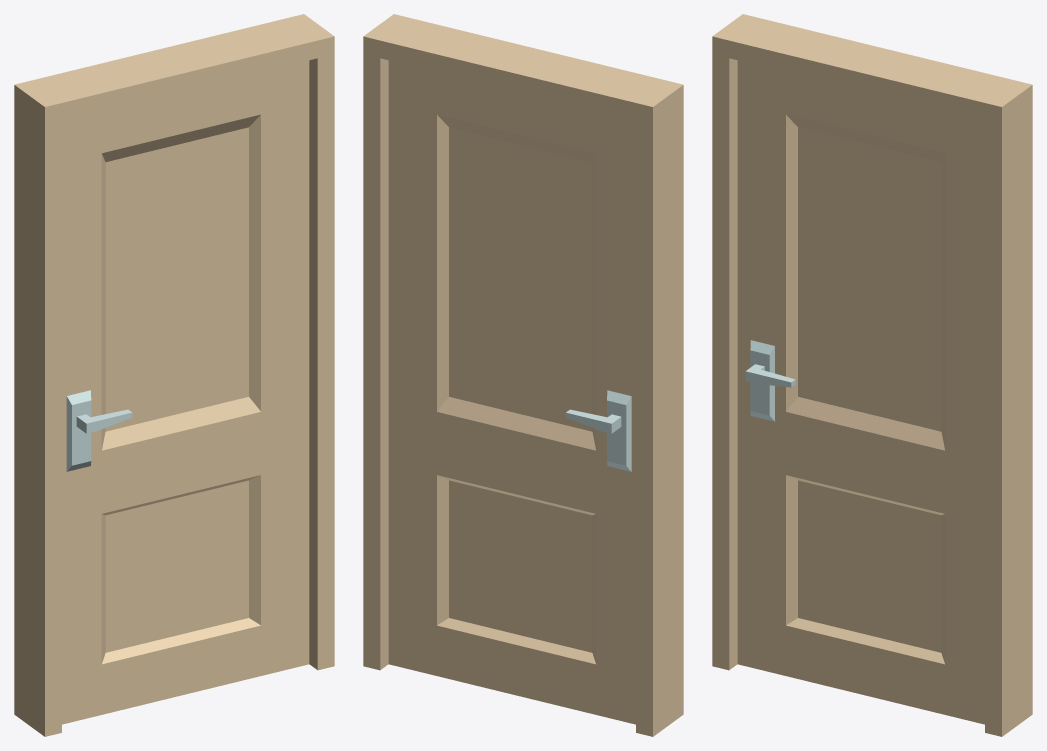
The model's file is doorway.glb.
3 views of the same model, side by side, from view 1: azimuth 30°, elevation 25°; view 2: azimuth 150°, elevation 25°; view 3: azimuth 330°, elevation 25° (orthographic).
Visible parts, largest first — view 1: doorway; view 2: doorway; view 3: doorway.
Part boxes in pixels (x1=…): doorway: x1=14, y1=14, x2=334, y2=736; doorway: x1=363, y1=14, x2=683, y2=736; doorway: x1=712, y1=14, x2=1032, y2=736.
Size of the model in its own units: 4.86 by 10.1 by 1.13.
